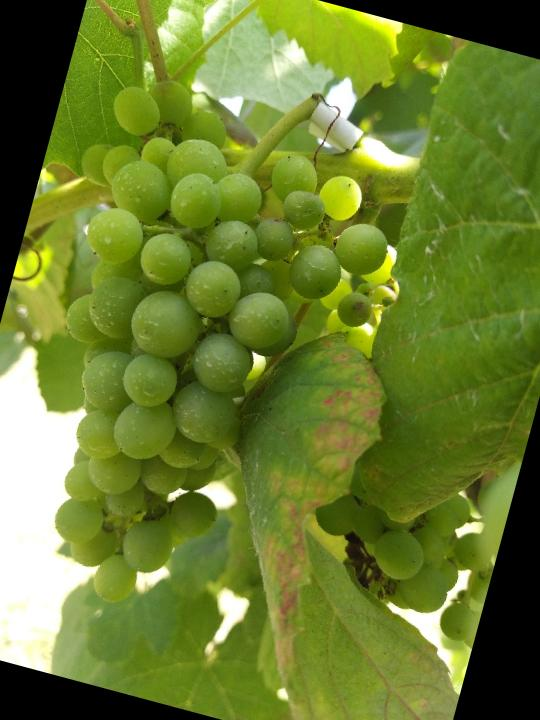grape: (0, 63, 436, 656)
